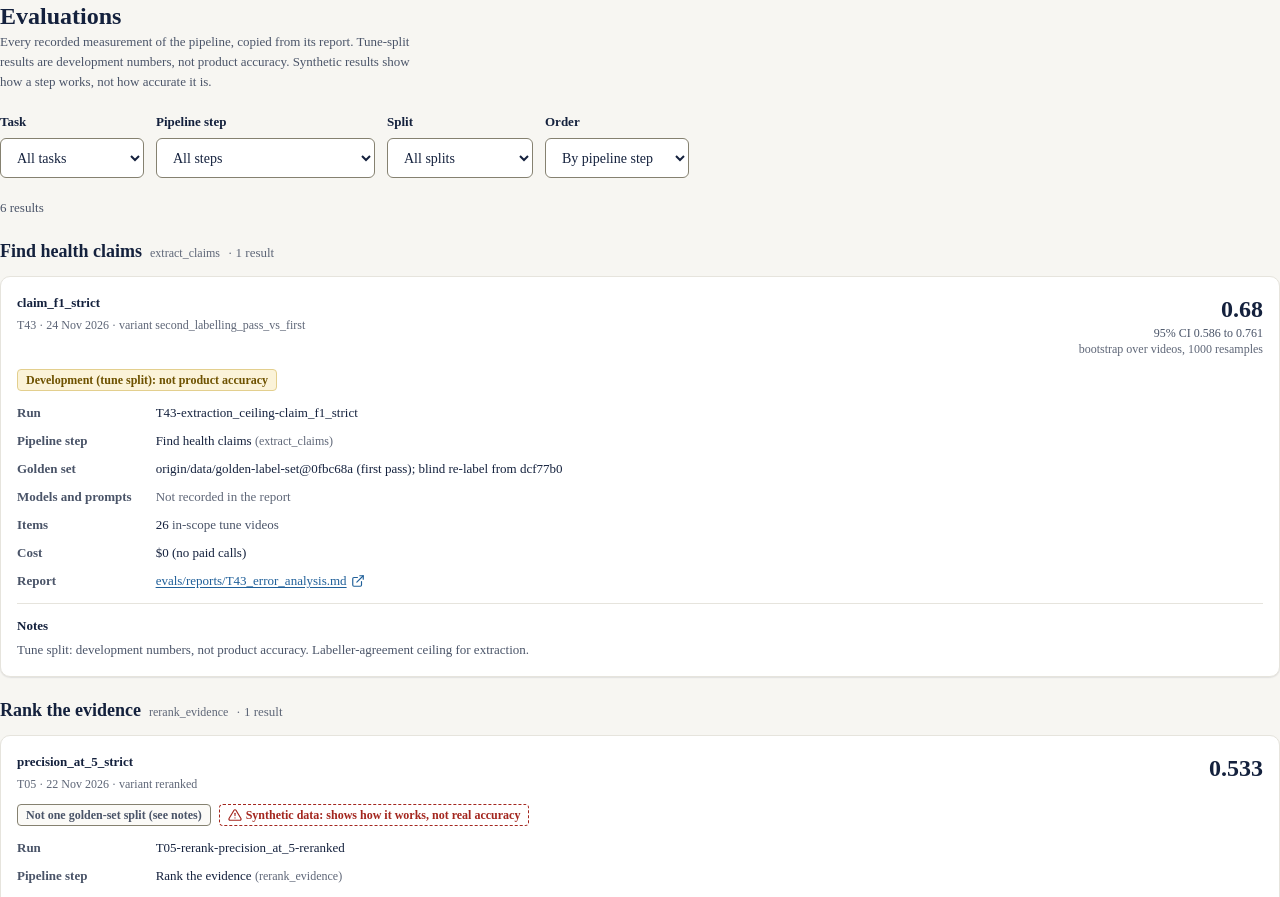
Test case: EvalsList (T63) › filters by task, step and split, and clears
Select "T38" in the dropdown labelled "Task" at (72, 158), box [0,138,144,178]
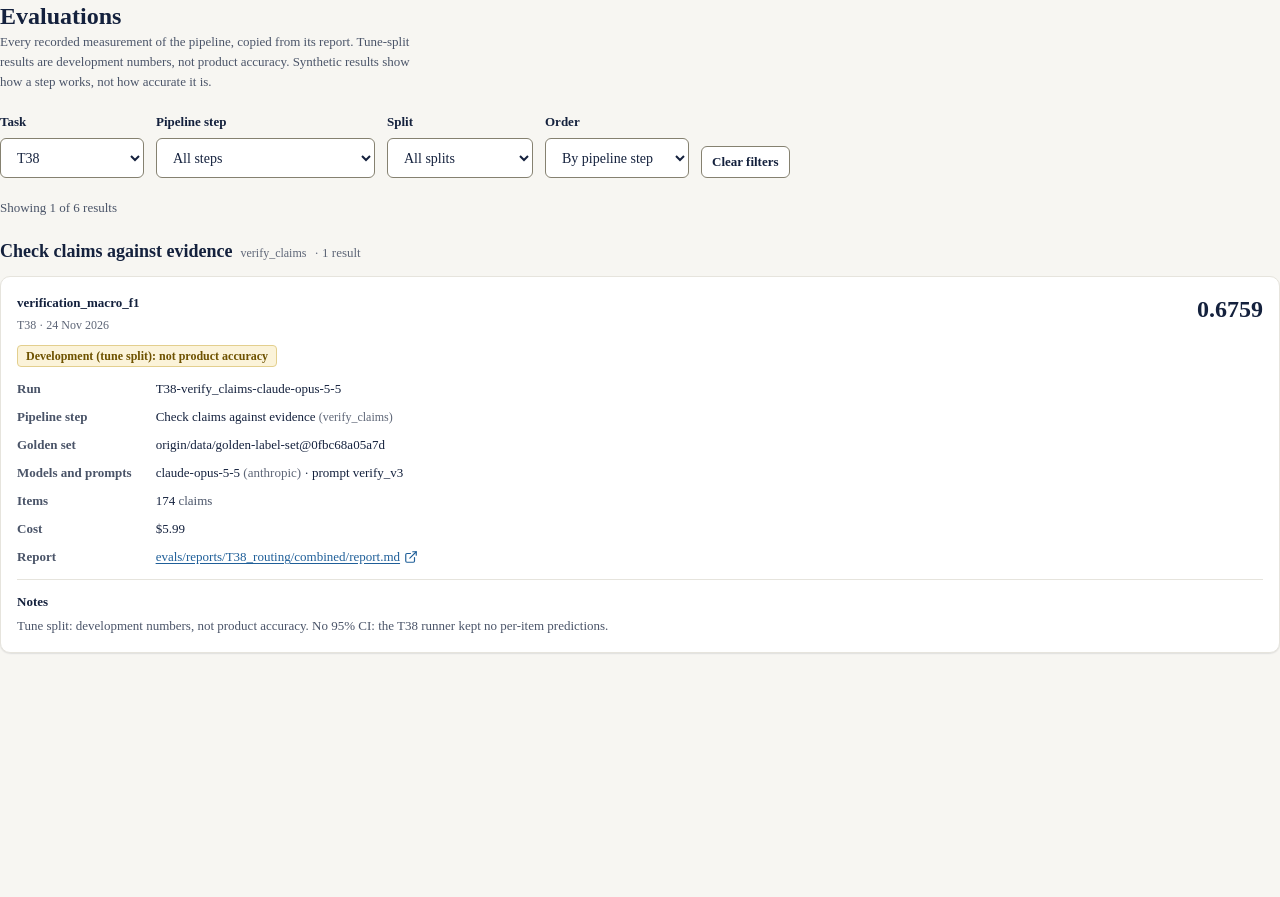
Expected: the message reads "Showing 1 of 6 results", [0,200,117,215]
Click the button "Clear filters" at (745, 162), box [701,146,790,178]
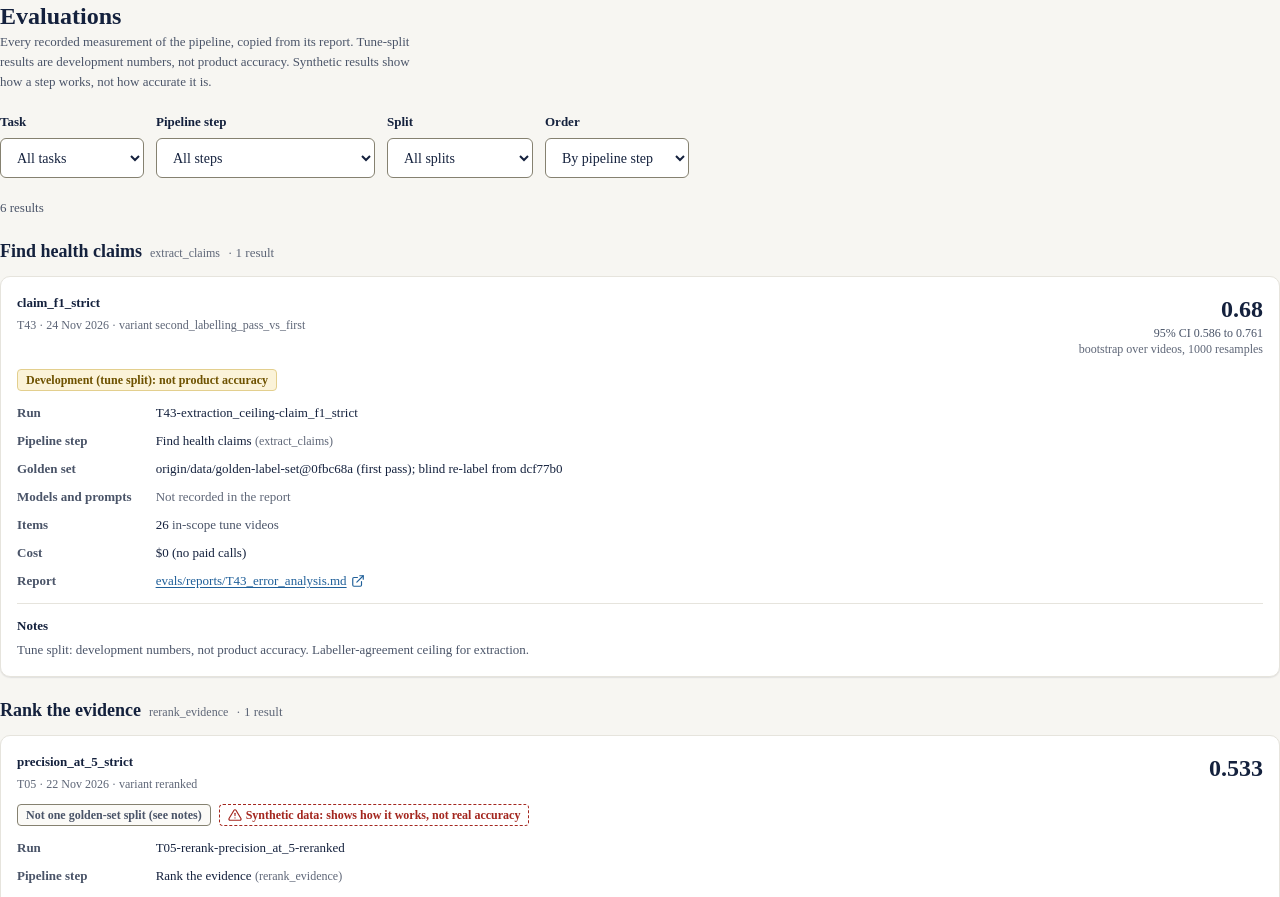
Select "Check claims against evidence" in the dropdown labelled "Pipeline step" at (266, 158), box [156,138,375,178]
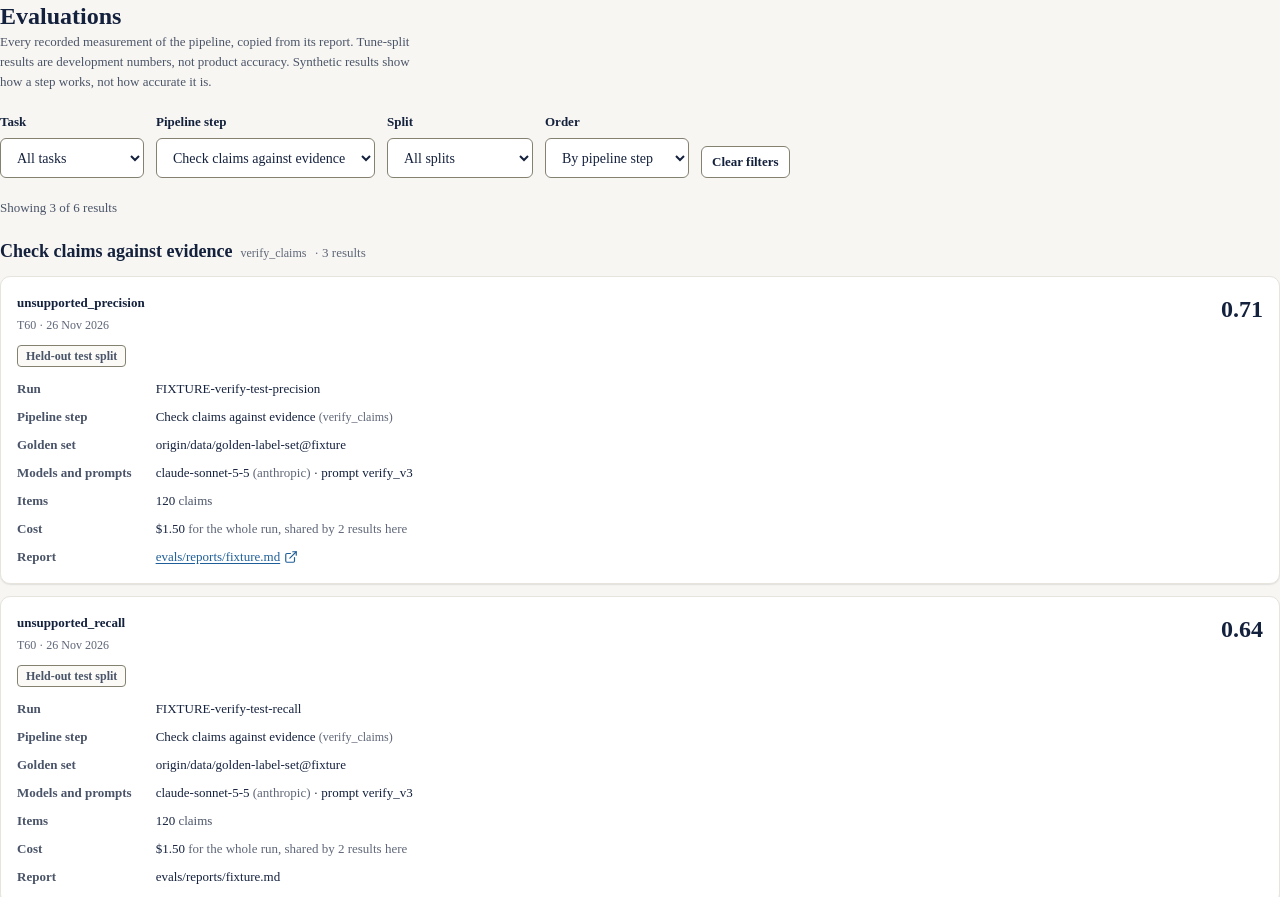
Select "Test" in the dropdown labelled "Split" at (460, 158), box [387,138,533,178]
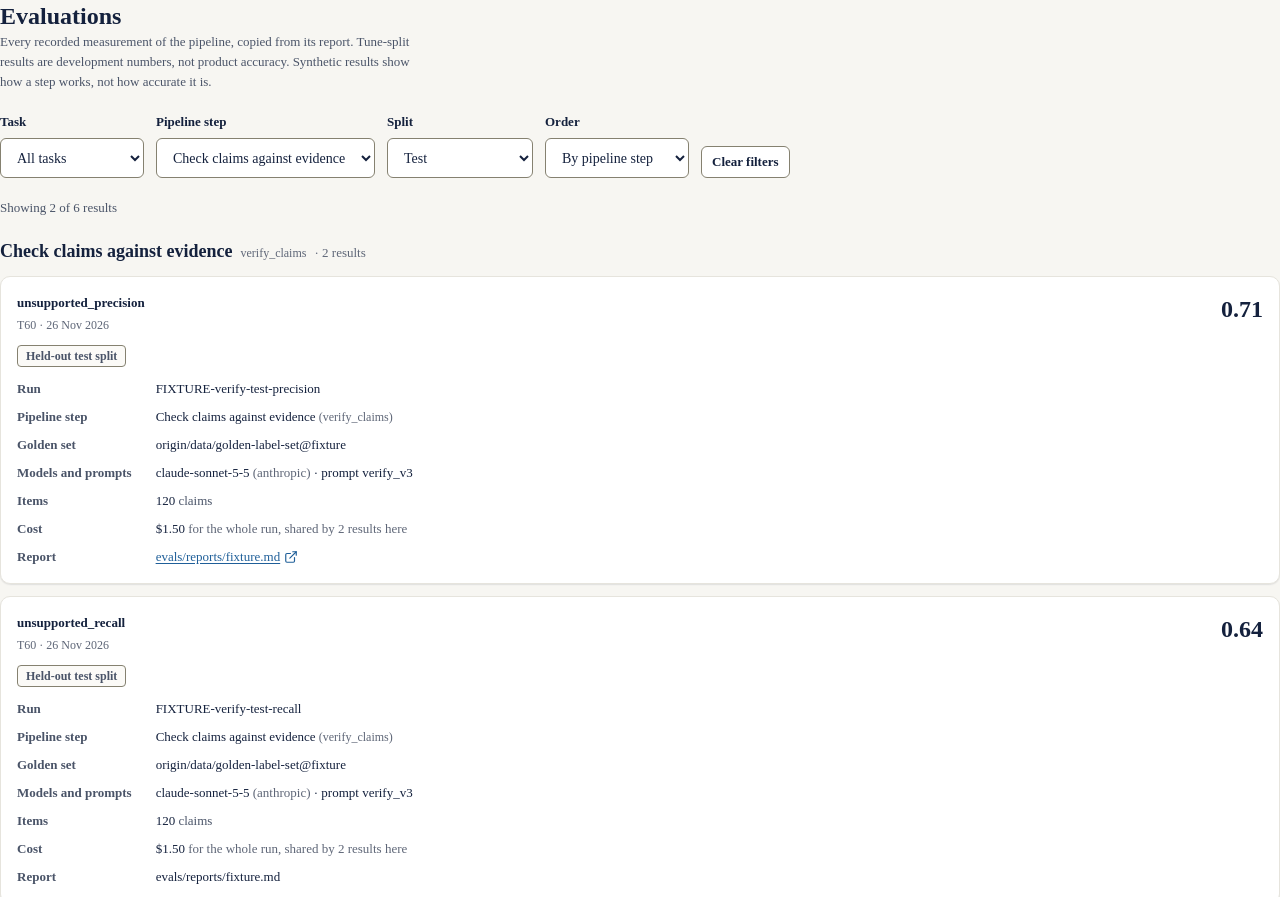
Select "T05" in the dropdown labelled "Task" at (72, 158), box [0,138,144,178]
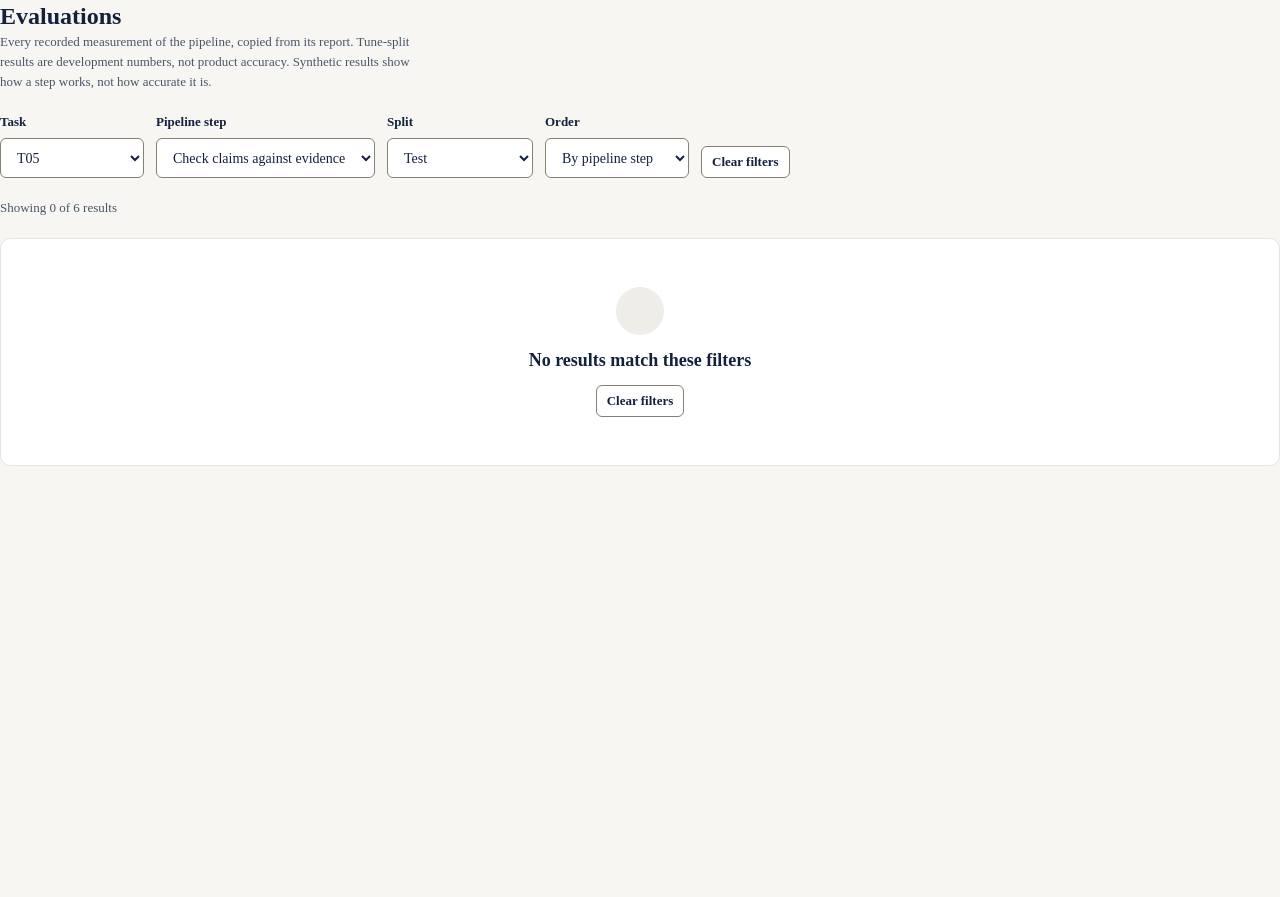
Expected: the text "No results match these filters" is shown, [529,347,751,373]
Click the button "Clear filters" below "Order" at (745, 162), box [701,146,790,178]
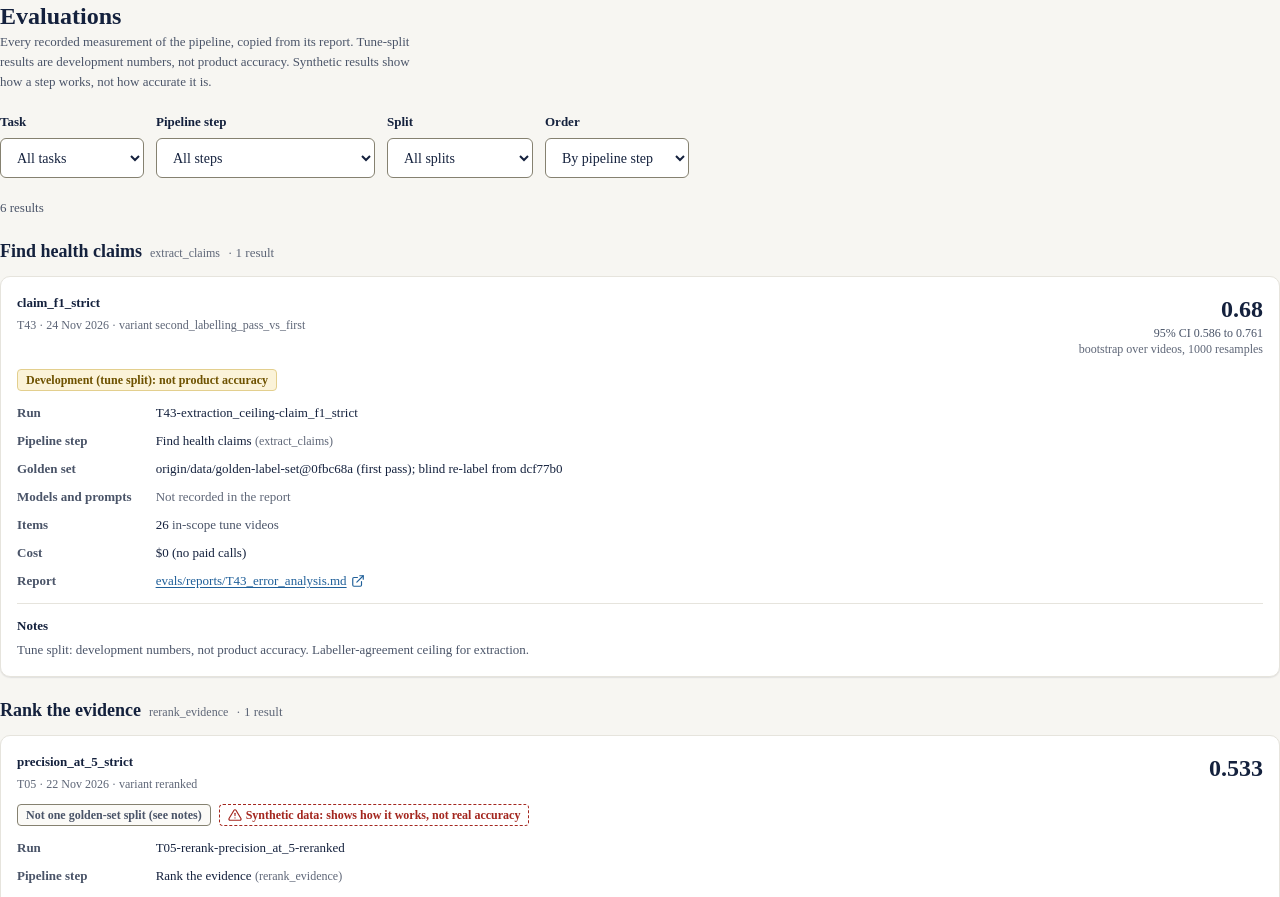
Expected: the message reads "6 results", [0,200,44,215]
